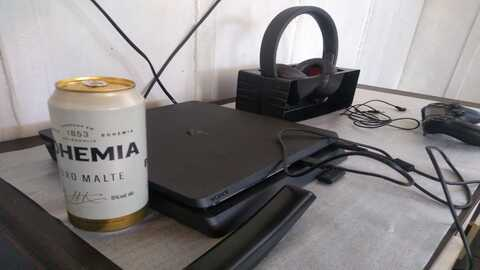bohemia: (45, 81, 156, 235)
